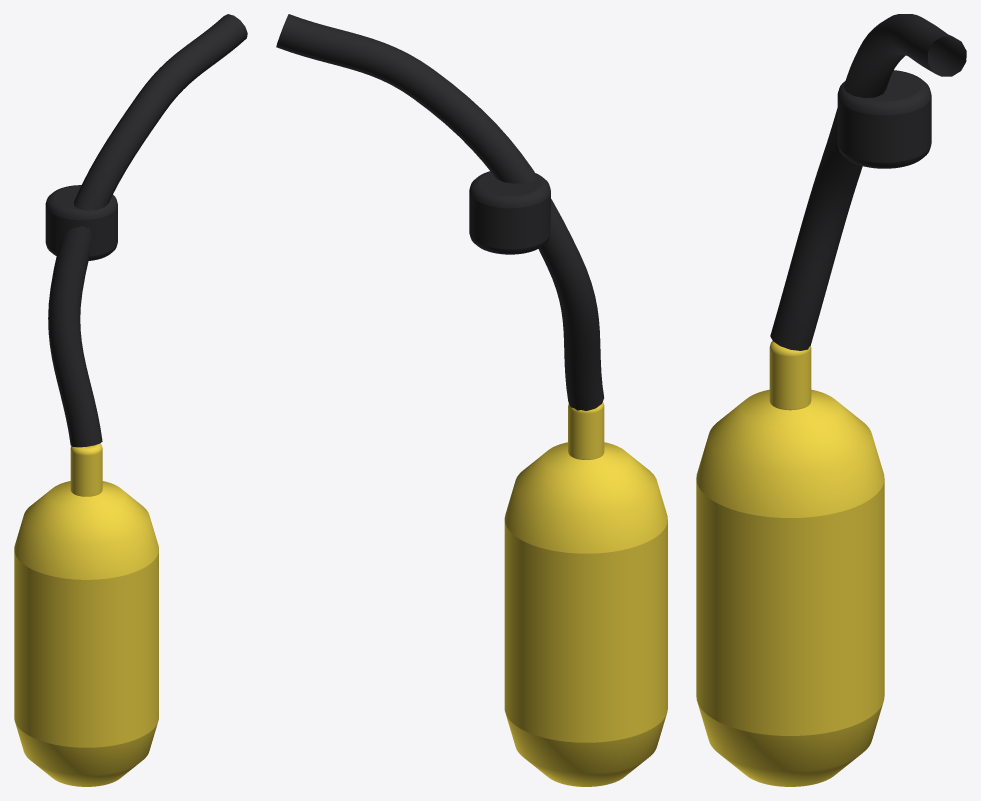
The model's file is float_switch.glb.
The picture shows the model from 3 angles, left to right: view 1: azimuth 30°, elevation 25°; view 2: azimuth 150°, elevation 25°; view 3: azimuth 270°, elevation 25°; orthographic projection. The views are drawn at different scales.
Visible parts, largest first — view 1: housing, connector; view 2: housing, connector; view 3: housing, connector.
Boxes of the visible parts, x1,y1,x2,y2 form: housing: (14,443,158,786); connector: (45,14,247,447); housing: (504,402,667,786); connector: (276,14,604,410); housing: (696,341,884,786); connector: (770,14,966,350).
Bounding box in the file's own units: 0.0797 × 0.1838 × 0.0517.
